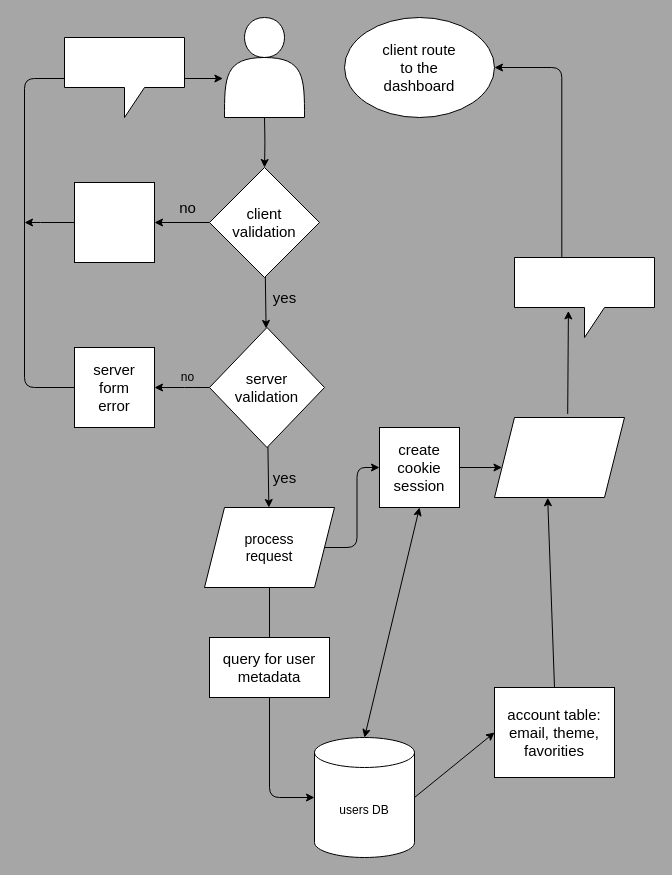
The diagram is 672 pixels wide and 875 high, and some of its shapes have lost their labels. The shapes that lost their labels are listed below. From the top down, each one's centre as x and y in pixels, then its label:
At (x=124, y=77): "display error message".
At (x=264, y=67): "sing in".
At (x=114, y=222): "client form error".
At (x=584, y=297): "display sucess message".
At (x=559, y=457): "process response".
